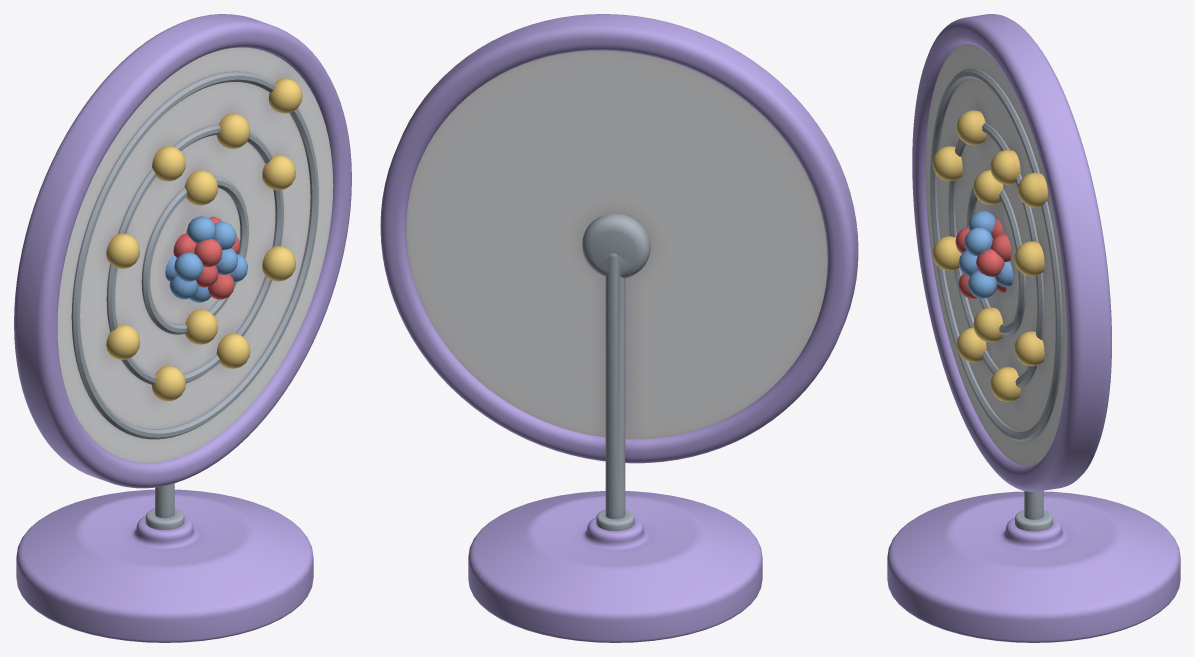
Rendered from bohr-model.glb.
3 renders of one model, left to right at view 1: azimuth 30°, elevation 25°; view 2: azimuth 150°, elevation 25°; view 3: azimuth 270°, elevation 25°, orthographic.
Parts seen in each view (by area): view 1: bohr-model_body; view 2: bohr-model_body; view 3: bohr-model_body.
Boxes of the visible parts, x1,y1,x2,y2 form: bohr-model_body: [14, 14, 351, 642]; bohr-model_body: [380, 14, 858, 642]; bohr-model_body: [887, 14, 1180, 642].
Size of the model in its own units: 0.1881 by 0.248 by 0.12.
Materials: 1 (1 with a texture image).
